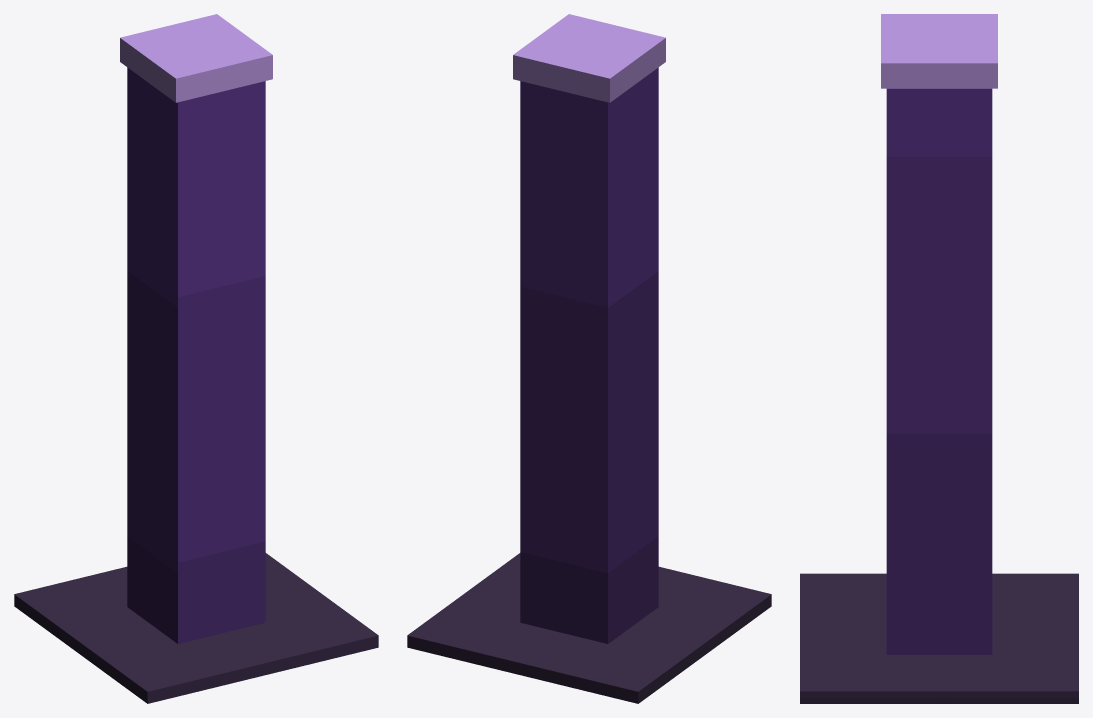
File: model_45_crystal.glb
3 views of the same model, side by side, from view 1: azimuth 30°, elevation 25°; view 2: azimuth 150°, elevation 25°; view 3: azimuth 270°, elevation 25° (orthographic). The views are drawn at different scales.
Size of the model in its own units: 1 by 2.4 by 1.
Materials: 1 (1 with a texture image).
